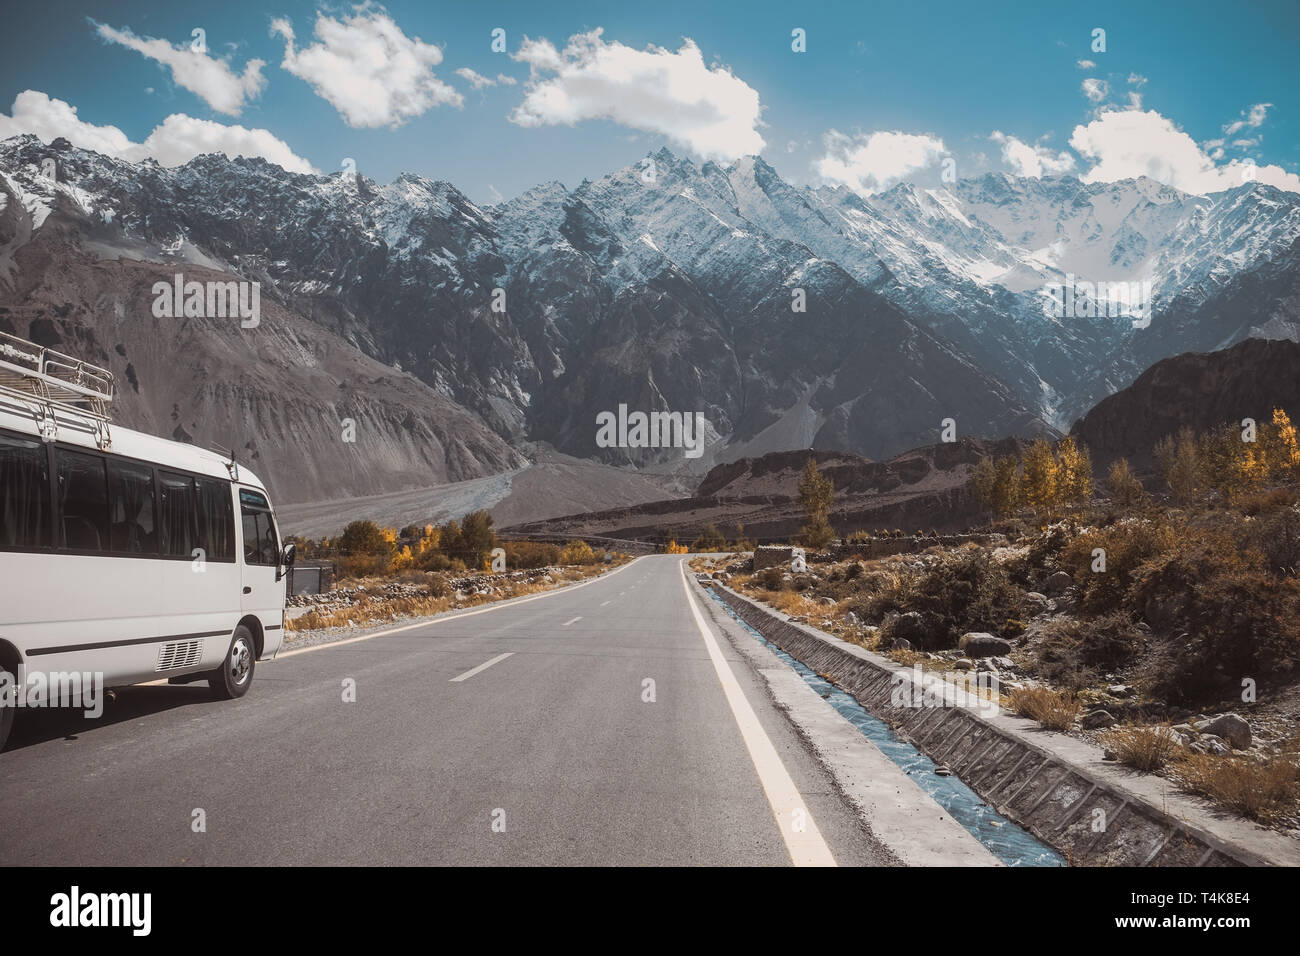straightRoad: (406, 579, 754, 956)
